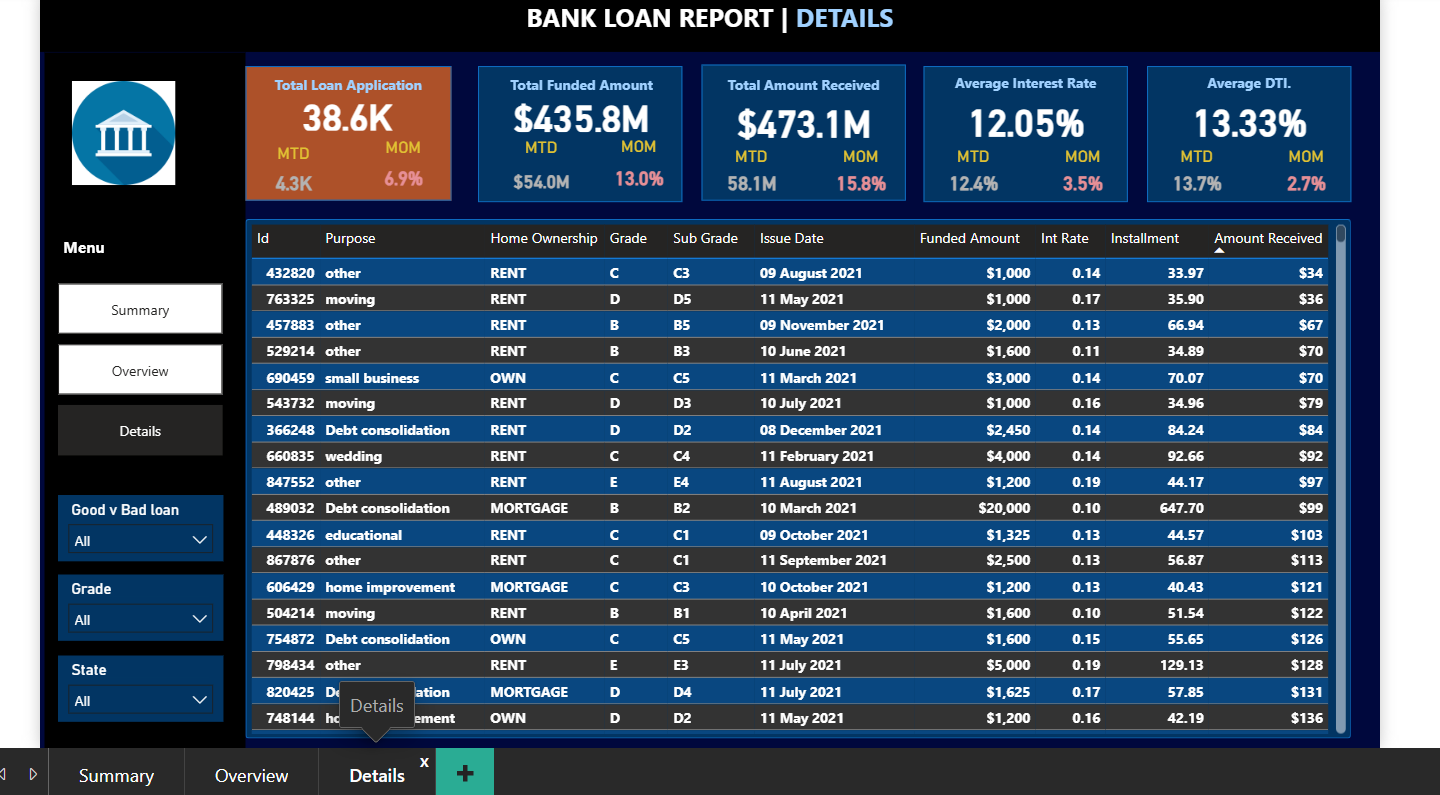

What the dashboard file says about the page in this screenshot:
{"tool":"powerbi","page":{"name":"Details","canvas":[1280,720],"ordinal":2},"visuals":[{"type":"shape","box":[0,0,1280.1,55.3],"z":0},{"type":"shape","box":[632.6,66.7,195.2,130.1],"z":0,"group":"g3"},{"type":"shape","box":[196.6,68.3,196.8,128.6],"z":0,"group":"g1"},{"type":"shape","box":[418,68.3,195.2,130.1],"z":0,"group":"g2"},{"type":"shape","box":[844.3,68.3,195.2,130.1],"z":0,"group":"g4"},{"type":"shape","box":[1057.4,68.3,195.2,130.1],"z":0,"group":"g5"},{"type":"shape","box":[4.9,55.3,191.9,665.3],"z":1000},{"type":"textbox","box":[357,0,566,48.8],"z":2000},{"type":"group","id":"g1","title":"Group 1","box":[193.6,68.3,200.1,130.1],"z":3000},{"type":"group","id":"g2","title":"Group 1","box":[418,68.3,197.2,136.1],"z":4000},{"type":"card","fields":{"Values":["Bank_loan_data.Total Loan Application"]},"box":[193.6,94.3,199.8,40.9],"z":4000,"group":"g1"},{"type":"card","fields":{"Values":["Bank_loan_data.Average Interest Rate"]},"box":[844.2,94.6,195.2,50.4],"z":4000,"group":"g4"},{"type":"card","fields":{"Values":["Bank_loan_data.Average DTI"]},"box":[1057.3,94.6,195.2,50.4],"z":4000,"group":"g5"},{"type":"card","fields":{"Values":["Bank_loan_data.Total Amount Received"]},"box":[631.9,94.7,195.2,50.4],"z":4000,"group":"g3"},{"type":"card","fields":{"Values":["Bank_loan_data.Total Funded Amount"]},"box":[418,94.8,196.8,42.3],"z":4000,"group":"g2"},{"type":"group","id":"g3","title":"Group 1","box":[631.9,66.7,195.2,130.1],"z":5000},{"type":"textbox","box":[844.2,70.2,195.2,34.2],"z":5000,"group":"g4"},{"type":"textbox","box":[1057.3,70.2,195.2,34.2],"z":5000,"group":"g5"},{"type":"textbox","box":[631.9,70.3,195.2,34.2],"z":5000,"group":"g3"},{"type":"textbox","box":[197,70.5,196.5,33.1],"z":5000,"group":"g1"},{"type":"textbox","box":[420,70.8,195.2,34.2],"z":5000,"group":"g2"},{"type":"group","id":"g4","title":"Group 1","box":[844.2,68.3,195.2,130.1],"z":6000},{"type":"card","title":"MTD","fields":{"Values":["Bank_loan_data.MTD Funded Amount"]},"box":[435.9,137.7,86.2,66.7],"z":6000,"group":"g2"},{"type":"card","title":"MTD","fields":{"Values":["Bank_loan_data.MTD loan Application"]},"box":[213.8,142.2,56.9,56.6],"z":6000,"group":"g1"},{"type":"card","title":"MTD","fields":{"Values":["Bank_loan_data.MTD Average Interest"]},"box":[860.5,145,63.4,52],"z":6000,"group":"g4"},{"type":"card","title":"MTD","fields":{"Values":["Bank_loan_data.MTD Average DTI"]},"box":[1073.6,145,63.4,52],"z":6000,"group":"g5"},{"type":"card","title":"MTD","fields":{"Values":["Bank_loan_data.MTD Total Amount Received"]},"box":[648.2,145.2,63.4,52],"z":6000,"group":"g3"},{"type":"group","id":"g5","title":"Group 1","box":[1057.3,68.3,195.2,130.1],"z":7000},{"type":"card","title":"MOM","fields":{"Values":["Bank_loan_data.MOM Funded Amount"]},"box":[539.6,135.5,63.4,61.8],"z":7000,"group":"g2"},{"type":"card","title":"MOM","fields":{"Values":["Bank_loan_data.MOM loan application"]},"box":[315.1,137,63.4,58.2],"z":7000,"group":"g1"},{"type":"card","title":"MOM","fields":{"Values":["Bank_loan_data.MOM Average Interest"]},"box":[964.6,145,63.4,52],"z":7000,"group":"g4"},{"type":"card","title":"MOM","fields":{"Values":["Bank_loan_data.MOM Average DTI"]},"box":[1177.7,145,63.4,52],"z":7000,"group":"g5"},{"type":"card","title":"MOM","fields":{"Values":["Bank_loan_data.MOM Amount Received"]},"box":[752.3,145.2,63.4,52],"z":7000,"group":"g3"},{"type":"slicer","fields":{"Values":["Bank_loan_data.Good v Bad Loan"]},"box":[17.9,478.2,157.8,63.4],"z":8000},{"type":"slicer","fields":{"Values":["Bank_loan_data.grade"]},"box":[17.9,554.7,157.8,63.4],"z":9000},{"type":"slicer","fields":{"Values":["Bank_loan_data.address_state"]},"box":[17.9,631.1,157.8,63.4],"z":10000},{"type":"shape","box":[196.8,214.7,1055.6,496.1],"z":11000},{"type":"tableEx","fields":{"Values":["Bank_loan_data.id","Bank_loan_data.purpose","Bank_loan_data.home_ownership","Bank_loan_data.grade","Bank_loan_data.sub_grade","Bank_loan_data.issue_date","Bank_loan_data.Total Funded Amount","Sum(Bank_loan_data.int_rate)","Sum(Bank_loan_data.installment)","Bank_loan_data.Total Amount Received"]},"box":[196.8,214.7,1055.6,496.1],"z":12000},{"type":"image","box":[17.9,83,125.2,99.2],"z":13000},{"type":"pageNavigator","box":[17.9,276.5,157.8,165.9],"z":14000},{"type":"textbox","box":[17.9,226.1,69.9,39],"z":15000}]}

Visuals, with their boxes on the page's 1280x720 design canvas (x1, y1, x2, y2). These are canvas units, not pixel positions in the 1440x795 screenshot, which may show the page scaled, cropped or inside an application window:
shape: x1=0, y1=0, x2=1280, y2=55
shape: x1=633, y1=67, x2=828, y2=197
shape: x1=197, y1=68, x2=393, y2=197
shape: x1=418, y1=68, x2=613, y2=198
shape: x1=844, y1=68, x2=1040, y2=198
shape: x1=1057, y1=68, x2=1253, y2=198
shape: x1=5, y1=55, x2=197, y2=721
textbox: x1=357, y1=0, x2=923, y2=49
"Group 1" group: x1=194, y1=68, x2=394, y2=198
"Group 1" group: x1=418, y1=68, x2=615, y2=204
card - Bank_loan_data.Total Loan Application: x1=194, y1=94, x2=393, y2=135
card - Bank_loan_data.Average Interest Rate: x1=844, y1=95, x2=1039, y2=145
card - Bank_loan_data.Average DTI: x1=1057, y1=95, x2=1252, y2=145
card - Bank_loan_data.Total Amount Received: x1=632, y1=95, x2=827, y2=145
card - Bank_loan_data.Total Funded Amount: x1=418, y1=95, x2=615, y2=137
"Group 1" group: x1=632, y1=67, x2=827, y2=197
textbox: x1=844, y1=70, x2=1039, y2=104
textbox: x1=1057, y1=70, x2=1252, y2=104
textbox: x1=632, y1=70, x2=827, y2=104
textbox: x1=197, y1=70, x2=394, y2=104
textbox: x1=420, y1=71, x2=615, y2=105
"Group 1" group: x1=844, y1=68, x2=1039, y2=198
"MTD" card: x1=436, y1=138, x2=522, y2=204
"MTD" card: x1=214, y1=142, x2=271, y2=199
"MTD" card: x1=860, y1=145, x2=924, y2=197
"MTD" card: x1=1074, y1=145, x2=1137, y2=197
"MTD" card: x1=648, y1=145, x2=712, y2=197
"Group 1" group: x1=1057, y1=68, x2=1252, y2=198
"MOM" card: x1=540, y1=136, x2=603, y2=197
"MOM" card: x1=315, y1=137, x2=378, y2=195
"MOM" card: x1=965, y1=145, x2=1028, y2=197
"MOM" card: x1=1178, y1=145, x2=1241, y2=197
"MOM" card: x1=752, y1=145, x2=816, y2=197
slicer - Bank_loan_data.Good v Bad Loan: x1=18, y1=478, x2=176, y2=542
slicer - Bank_loan_data.grade: x1=18, y1=555, x2=176, y2=618
slicer - Bank_loan_data.address_state: x1=18, y1=631, x2=176, y2=694
shape: x1=197, y1=215, x2=1252, y2=711
tableEx - Bank_loan_data.id x Bank_loan_data.purpose: x1=197, y1=215, x2=1252, y2=711
image: x1=18, y1=83, x2=143, y2=182
pageNavigator: x1=18, y1=276, x2=176, y2=442
textbox: x1=18, y1=226, x2=88, y2=265
